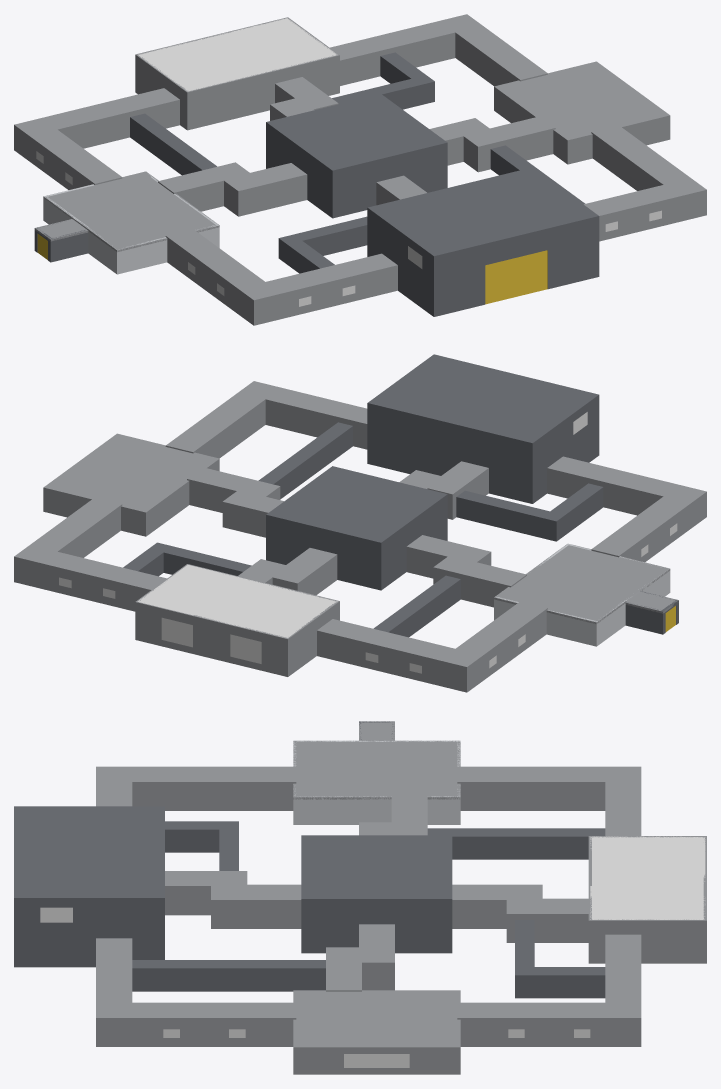
File: level.glb
3 views of the same model, one above another, from view 1: azimuth 30°, elevation 25°; view 2: azimuth 150°, elevation 25°; view 3: azimuth 270°, elevation 25° (orthographic). The views are drawn at different scales.
Visible parts, largest first — view 1: Ceiling_469, Ceiling_452, C_Block_454, Ceiling_473, Ceiling_471, Wall_272, Wall_404, Wall_402, Ceiling_505, D_Airlock_1, Ceiling_511, Ceiling_509 (+64 smaller); view 2: Ceiling_469, Ceiling_452, Ceiling_473, C_Block_454, Ceiling_471, Wall_351, Wall_345, Ceiling_505, Ceiling_511, Ceiling_501, Ceiling_513, Ceiling_515 (+67 smaller); view 3: Ceiling_469, Ceiling_471, Ceiling_452, Ceiling_473, C_Block_454, Wall_50, Wall_145, Wall_49, Ceiling_505, Ceiling_511, Wall_111, Ceiling_513 (+50 smaller).
Boxes of the visible parts, bbox=[...] form: Ceiling_469: bbox=[367, 167, 599, 257]; Ceiling_452: bbox=[266, 94, 447, 172]; C_Block_454: bbox=[138, 18, 337, 91]; Ceiling_473: bbox=[43, 171, 219, 252]; Ceiling_471: bbox=[494, 61, 670, 141]; Wall_272: bbox=[186, 70, 277, 129]; Wall_404: bbox=[547, 216, 599, 289]; Wall_402: bbox=[432, 243, 485, 316]; Ceiling_505: bbox=[591, 125, 706, 196]; D_Airlock_1: bbox=[485, 250, 547, 304]; Ceiling_511: bbox=[165, 229, 280, 301]; Ceiling_509: bbox=[238, 253, 397, 301]; Ceiling_469: bbox=[367, 354, 599, 444]; Ceiling_452: bbox=[266, 466, 447, 544]; Ceiling_473: bbox=[494, 544, 670, 623]; C_Block_454: bbox=[137, 565, 337, 637]; Ceiling_471: bbox=[43, 433, 219, 514]; Wall_351: bbox=[367, 403, 464, 475]; Wall_345: bbox=[486, 431, 533, 503]; Ceiling_505: bbox=[165, 381, 280, 453]; Ceiling_511: bbox=[591, 485, 706, 557]; Ceiling_501: bbox=[14, 545, 166, 591]; Ceiling_513: bbox=[439, 601, 547, 668]; Ceiling_515: bbox=[317, 619, 482, 668]; Ceiling_469: bbox=[14, 806, 164, 900]; Ceiling_471: bbox=[293, 990, 460, 1049]; Ceiling_452: bbox=[301, 835, 452, 901]; Ceiling_473: bbox=[293, 740, 460, 799]; C_Block_454: bbox=[590, 836, 705, 919]; Wall_50: bbox=[132, 780, 296, 810]; Wall_145: bbox=[132, 967, 325, 991]; Wall_49: bbox=[457, 780, 605, 810]; Ceiling_505: bbox=[96, 1002, 296, 1020]; Ceiling_511: bbox=[96, 766, 296, 784]; Wall_111: bbox=[391, 897, 452, 953]; Ceiling_513: bbox=[457, 766, 641, 784].
Bounding box in the file's own units: 94.4 × 9.3 × 84.4.
